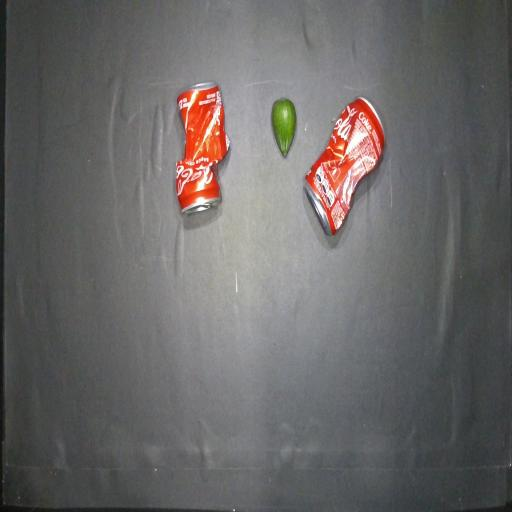higo: (272, 98, 296, 156)
lata_defectuoso: (304, 97, 385, 235), (176, 82, 229, 213)
